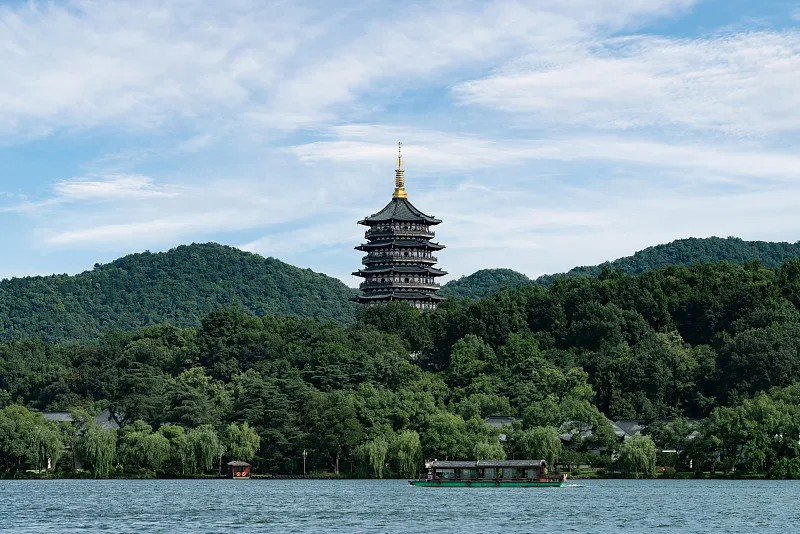Leifeng: (350, 142, 446, 319)
